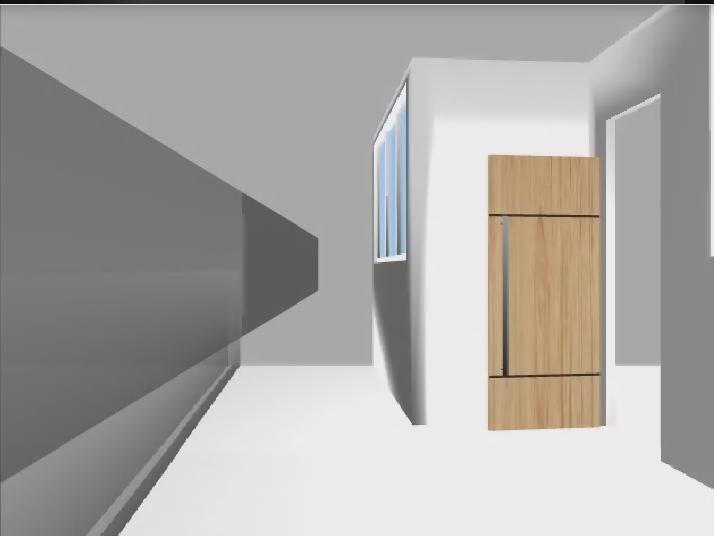door: (488, 154, 601, 428)
